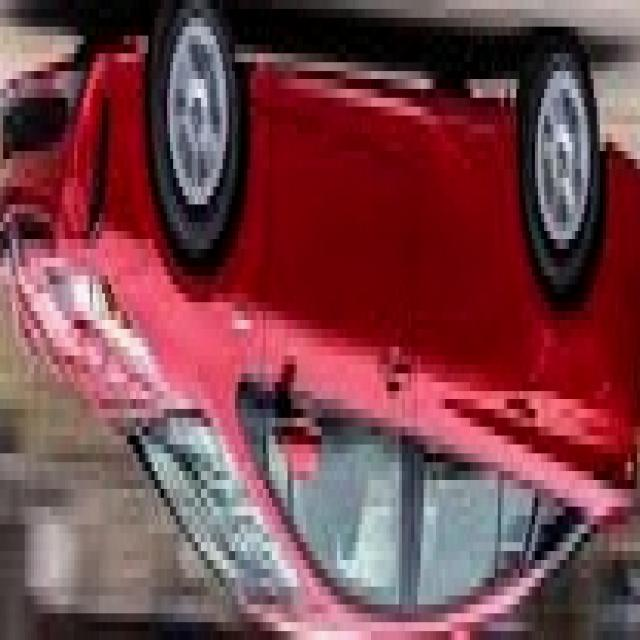maroon: (0, 0, 639, 598)
